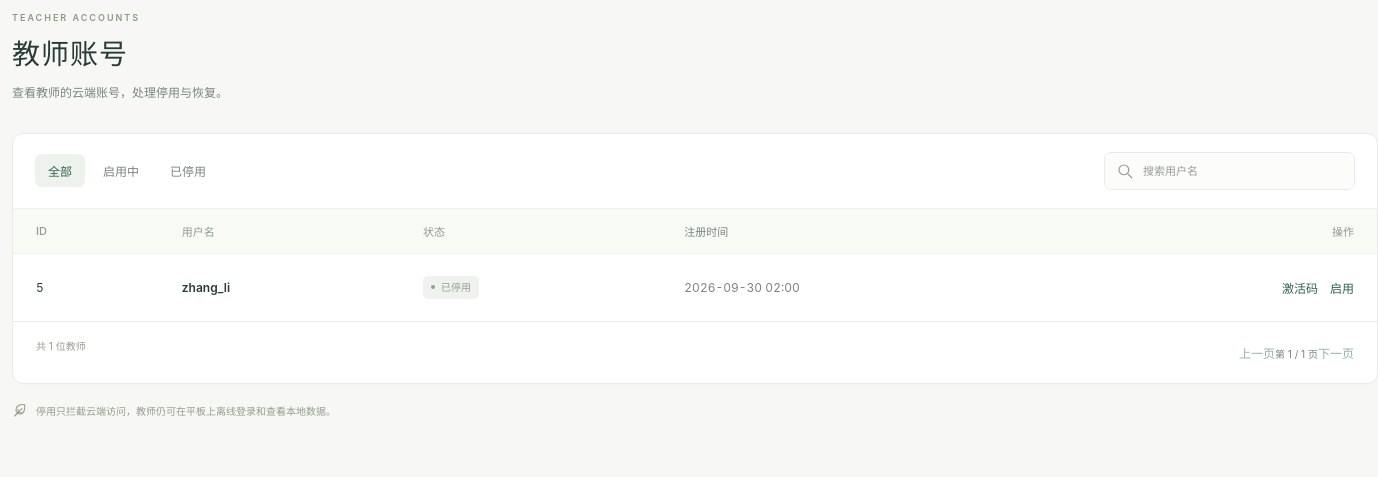
Scenario: 教师账号 › 激活码已撤销时启用失败并说明原因
The image size is (1378, 477).
Click the button "启用".
click(1342, 287)  # box [1330,273,1354,302]
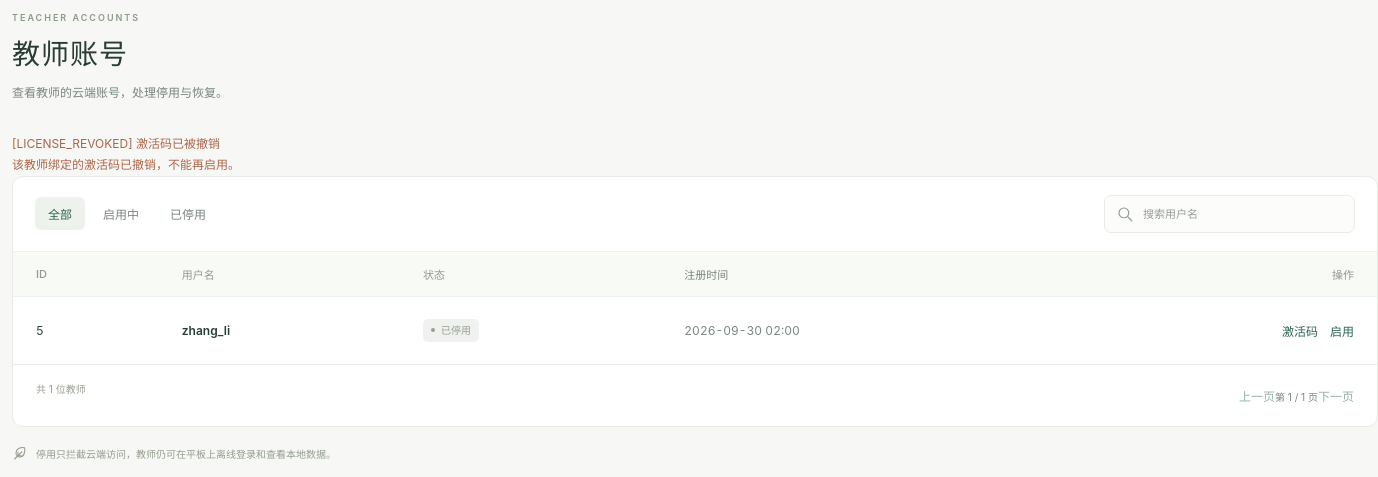
Now the message shows "LICENSE_REVOKED", box [16,136,128,151]
Now the message shows "不能再启用", box [12,157,240,172]
